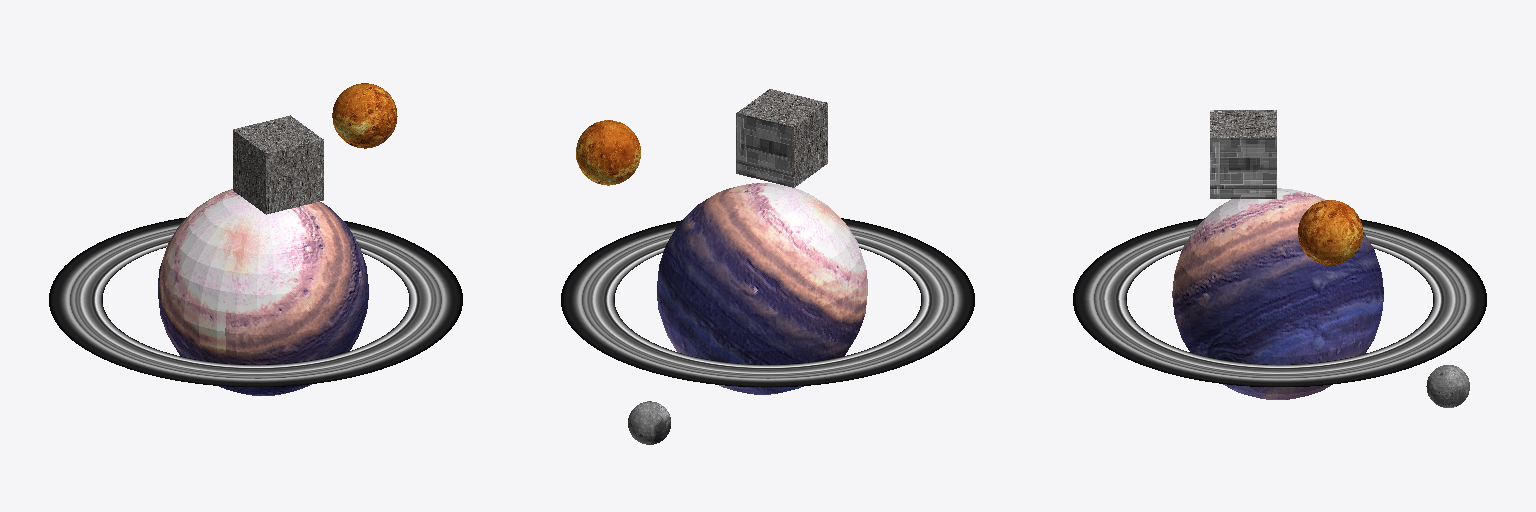
The picture shows the model from 3 angles: view 1: azimuth 30°, elevation 25°; view 2: azimuth 150°, elevation 25°; view 3: azimuth 270°, elevation 25°; orthographic projection.
Parts seen in each view (by area): view 1: Planet_Sphere, Rings_Plance, Spaceship_Cube, Deimios_Moon1; view 2: Planet_Sphere, Rings_Plance, Spaceship_Cube, Deimios_Moon1, Phobos_Moon2; view 3: Planet_Sphere, Rings_Plance, Spaceship_Cube, Deimios_Moon1, Phobos_Moon2.
Part boxes in pixels (x1,y1,x2,y2): Planet_Sphere: (158, 189, 368, 395); Rings_Plance: (49, 217, 462, 386); Spaceship_Cube: (233, 115, 323, 214); Deimios_Moon1: (332, 83, 397, 148); Planet_Sphere: (657, 183, 867, 394); Rings_Plance: (561, 218, 974, 386); Spaceship_Cube: (736, 89, 827, 187); Deimios_Moon1: (576, 120, 640, 185); Phobos_Moon2: (628, 401, 670, 444); Planet_Sphere: (1172, 188, 1383, 399); Rings_Plance: (1073, 218, 1486, 386); Spaceship_Cube: (1210, 110, 1276, 198); Deimios_Moon1: (1298, 200, 1362, 264); Phobos_Moon2: (1426, 365, 1469, 407).
Bounding box in the file's own units: 3.91 × 2.78 × 3.9.
Materials: 7 (6 with a texture image).